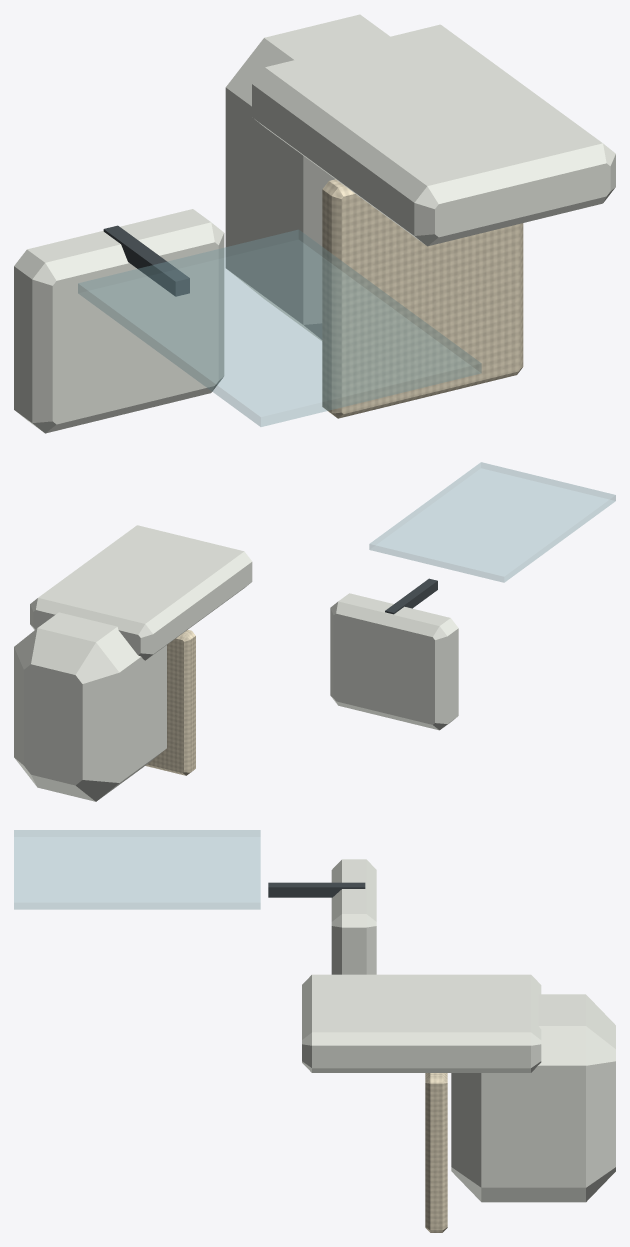
File: shared_bath_toilet.obj
3 views of the same model, one above another, from view 1: azimuth 30°, elevation 25°; view 2: azimuth 150°, elevation 25°; view 3: azimuth 270°, elevation 25° (orthographic). The views are drawn at different scales.
Visible parts, largest first — view 1: shared_bath_toilet_ceramic, shared_bath_toilet_glass, shared_bath_toilet_linen, shared_bath_toilet_metal; view 2: shared_bath_toilet_ceramic, shared_bath_toilet_glass, shared_bath_toilet_linen, shared_bath_toilet_metal; view 3: shared_bath_toilet_ceramic, shared_bath_toilet_glass, shared_bath_toilet_linen, shared_bath_toilet_metal.
Part boxes in pixels (bbox=[...]): shared_bath_toilet_ceramic: bbox=[14, 14, 615, 433]; shared_bath_toilet_glass: bbox=[78, 230, 481, 426]; shared_bath_toilet_linen: bbox=[322, 179, 523, 418]; shared_bath_toilet_metal: bbox=[103, 225, 189, 296]; shared_bath_toilet_ceramic: bbox=[14, 525, 458, 801]; shared_bath_toilet_glass: bbox=[369, 462, 615, 582]; shared_bath_toilet_linen: bbox=[145, 630, 195, 775]; shared_bath_toilet_metal: bbox=[385, 578, 437, 614]; shared_bath_toilet_ceramic: bbox=[302, 859, 615, 1202]; shared_bath_toilet_glass: bbox=[14, 830, 260, 909]; shared_bath_toilet_linen: bbox=[425, 1073, 447, 1232]; shared_bath_toilet_metal: bbox=[268, 882, 365, 897].
Size of the model in its own units: 60 by 32 by 80.5.
4 materials, 4 textured.
